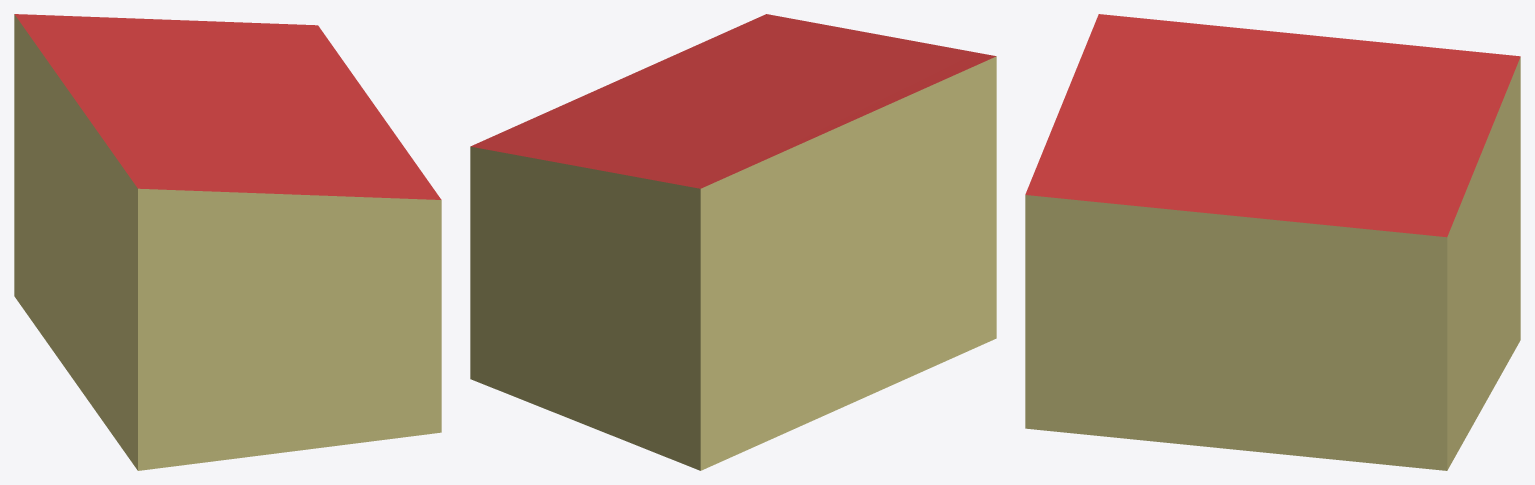
The picture shows the model from 3 angles, left to right: view 1: azimuth 30°, elevation 25°; view 2: azimuth 150°, elevation 25°; view 3: azimuth 270°, elevation 25°; orthographic projection.
Visible parts, largest first — view 1: group_4, group_3; view 2: group_4, group_3; view 3: group_4, group_3.
Part boxes in pixels (left/top/right/bottom): group_4: left=14, top=14, right=441, bottom=470; group_3: left=14, top=14, right=441, bottom=199; group_4: left=470, top=56, right=996, bottom=470; group_3: left=470, top=14, right=996, bottom=188; group_4: left=1025, top=57, right=1520, bottom=470; group_3: left=1025, top=14, right=1520, bottom=237.
Size of the model in its own units: 7.67 by 9.26 by 5.85.
